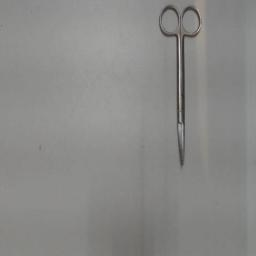Curved Mayo Scissors: (156, 2, 206, 170)
